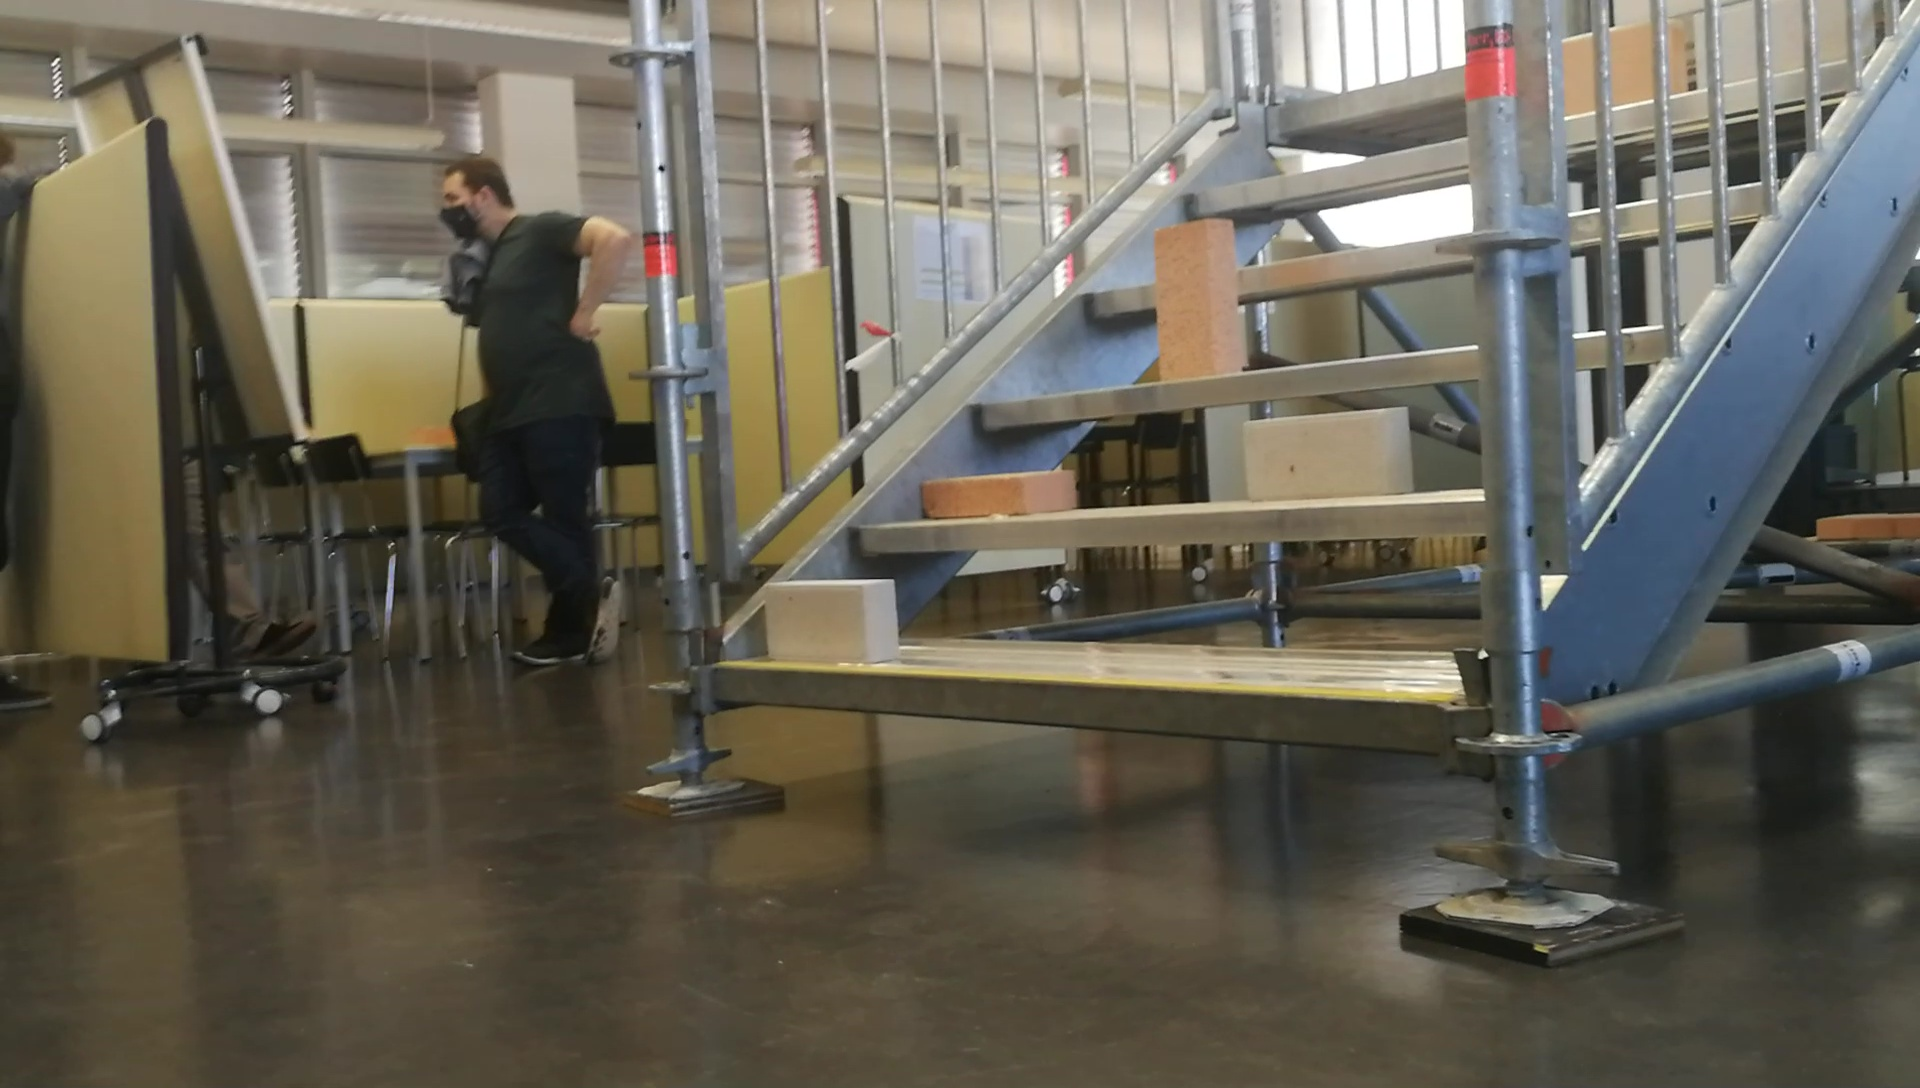brick: (1245, 410, 1407, 499), (1156, 220, 1241, 378), (765, 578, 895, 661), (920, 469, 1071, 516)
edge: (711, 663, 1451, 756)
stairs: (605, 0, 1560, 965)
